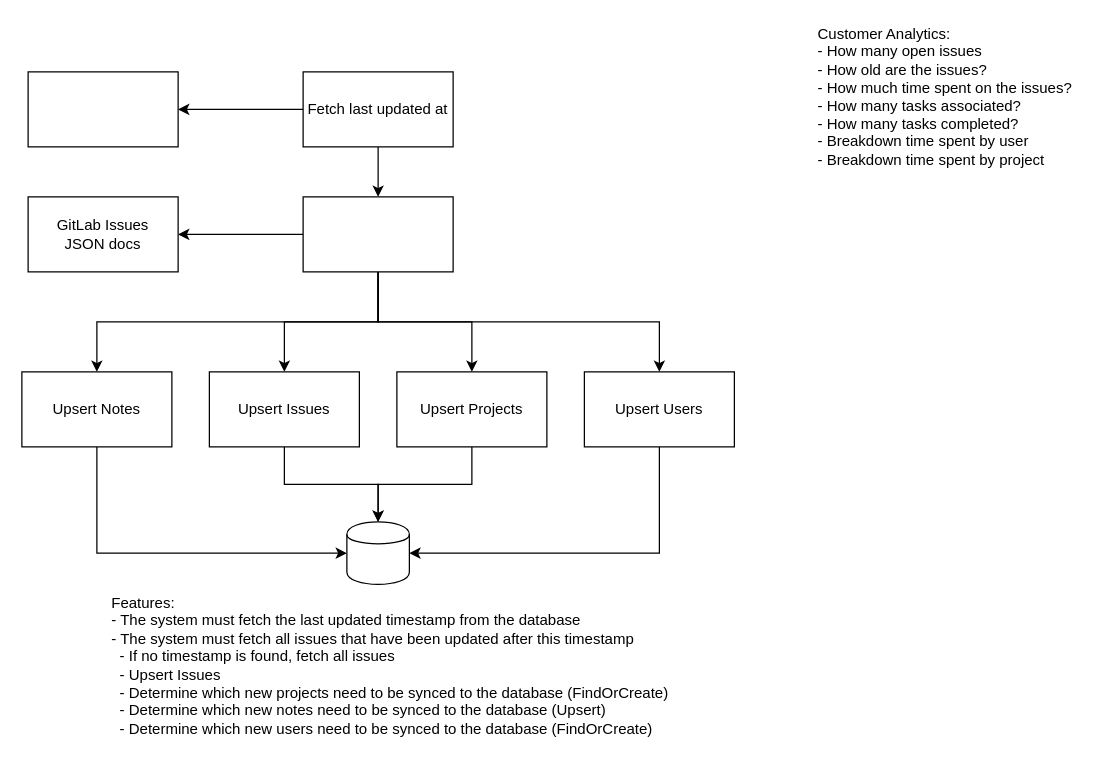
Image size: 1113x761. Some labels were removed from this diagram. Here are the shapes that lost their labels. From the top down, the centre of each, then its label:
At (102,109): "Last Updated @ timestamp cache".
At (377,234): "Fetch New and updated issues".
